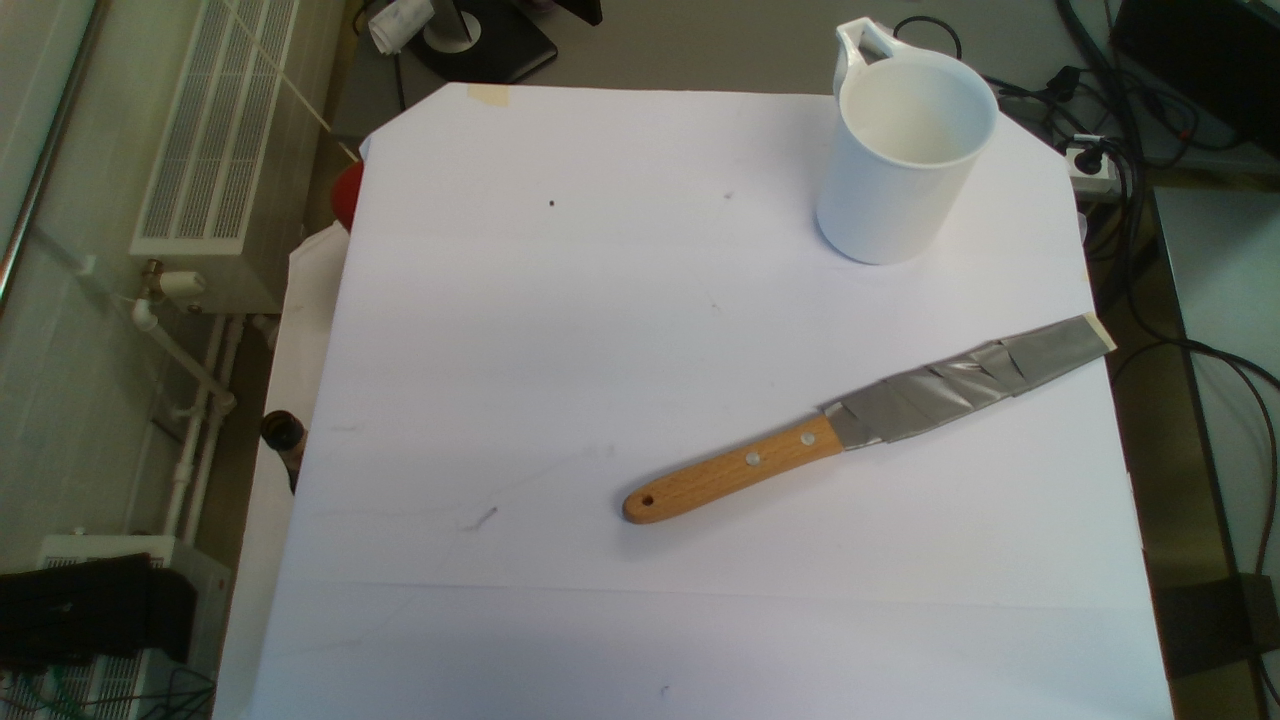cup: (815, 16, 1001, 265)
knife: (619, 311, 1121, 523)
